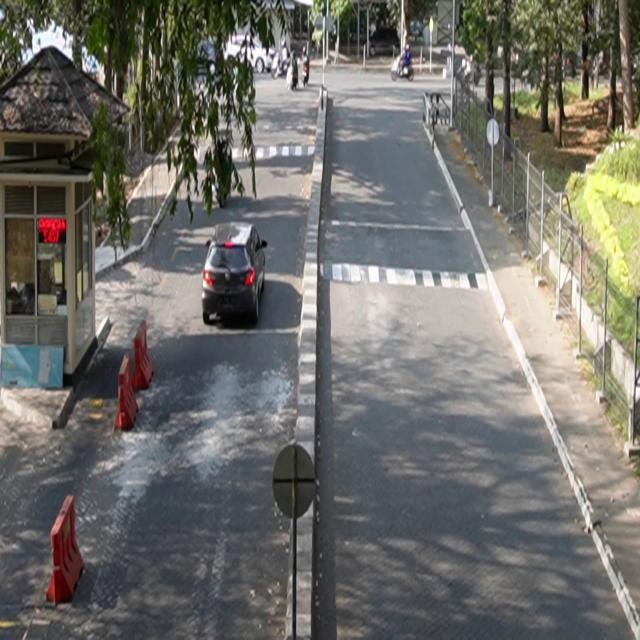car: (202, 222, 268, 326)
